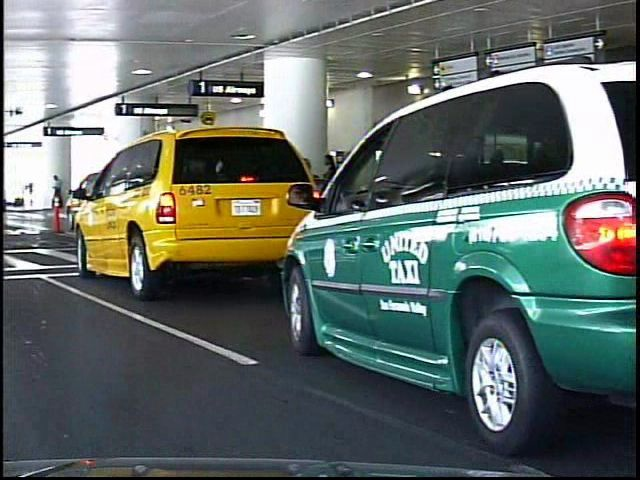person: (47, 175, 60, 197)
